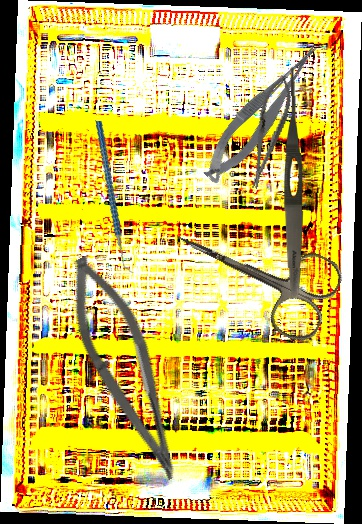Chopper: (72, 120, 159, 274)
Dressing Forceps: (280, 65, 306, 299)
Iris Scissors: (158, 195, 348, 348)
Micro Scissor: (47, 247, 207, 489), (190, 39, 336, 188)
Needle Holder: (240, 72, 298, 192)
